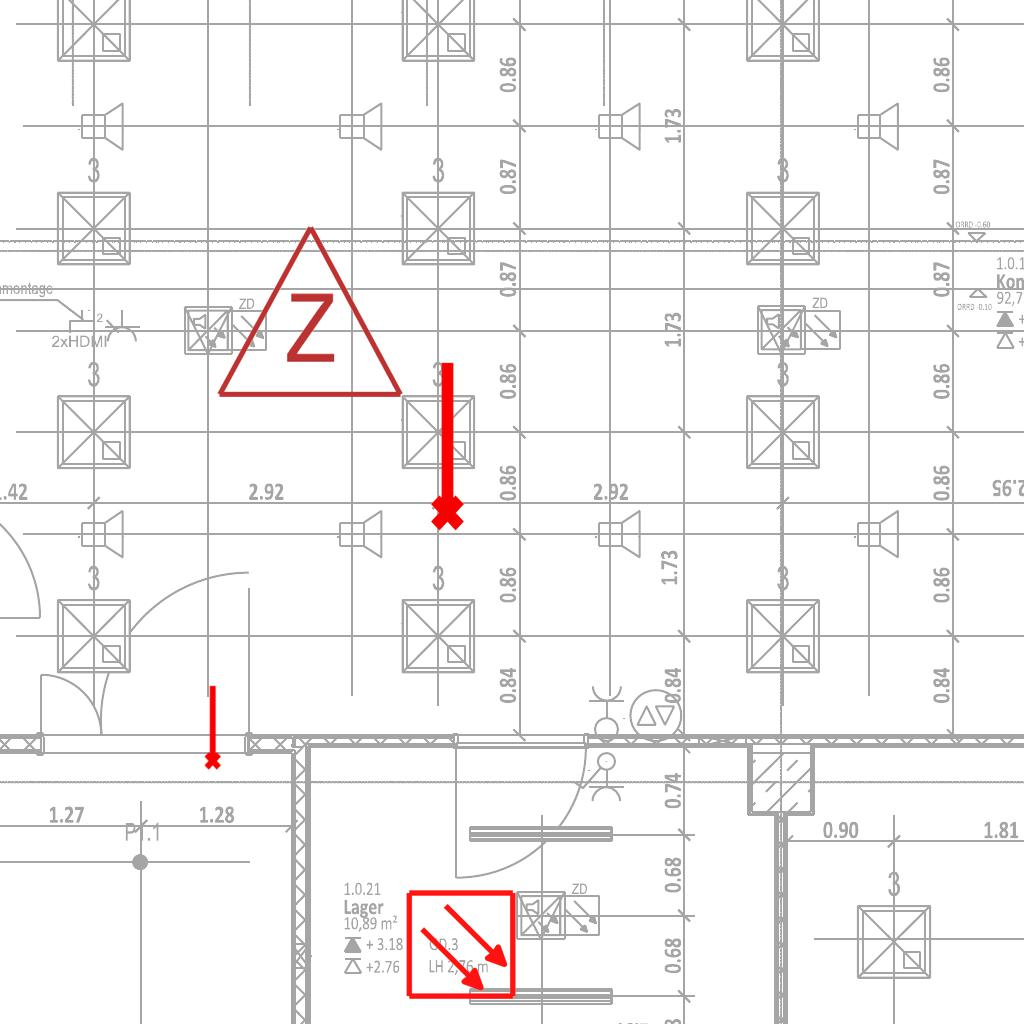ASR_Ansaugoeffnung: (422, 357, 468, 533), (200, 683, 223, 771)
RMO_Rauchmelder_optischer: (405, 888, 518, 1001)
Zimmersignalleuchte: (210, 212, 406, 412)
